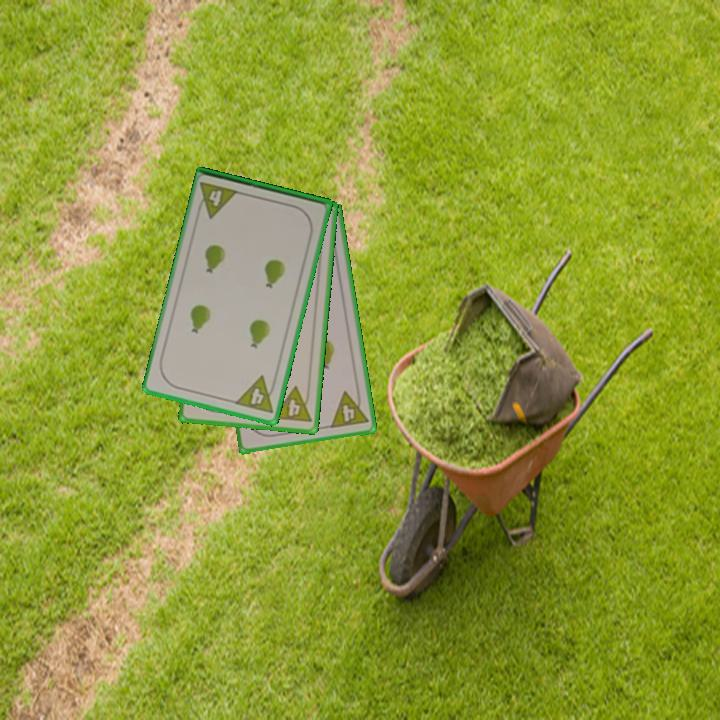4p: (231, 372, 280, 417), (193, 178, 242, 221), (327, 386, 371, 431), (269, 383, 314, 426)
